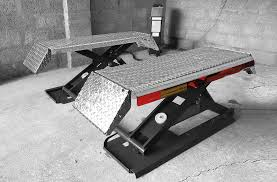Scissor Lift: (20, 28, 258, 179)
